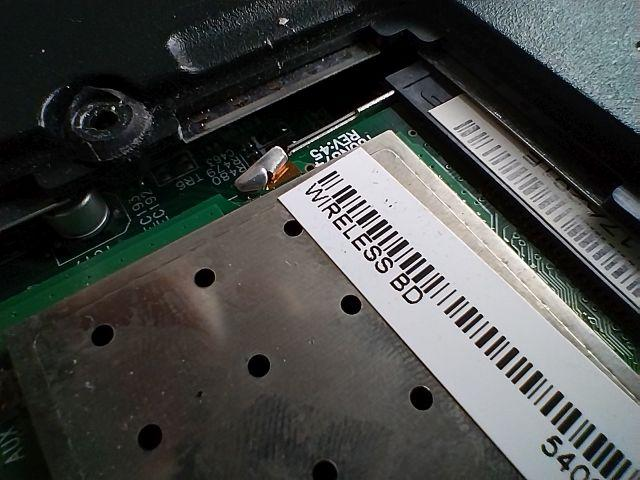resistor: (244, 149, 259, 159), (240, 141, 253, 150)
